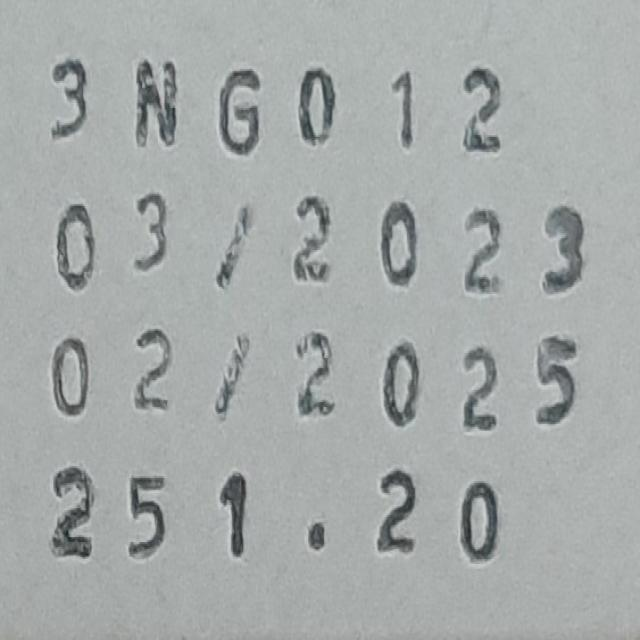sentence: (55, 188, 584, 300), (49, 325, 578, 432), (51, 50, 501, 161), (50, 466, 500, 564)
